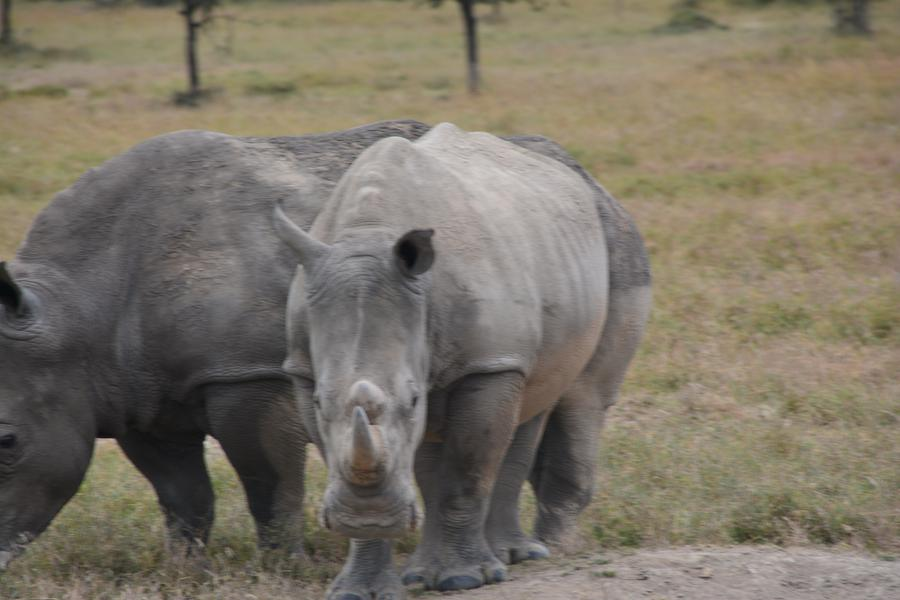rhino: (15, 136, 294, 534), (300, 136, 562, 545)
